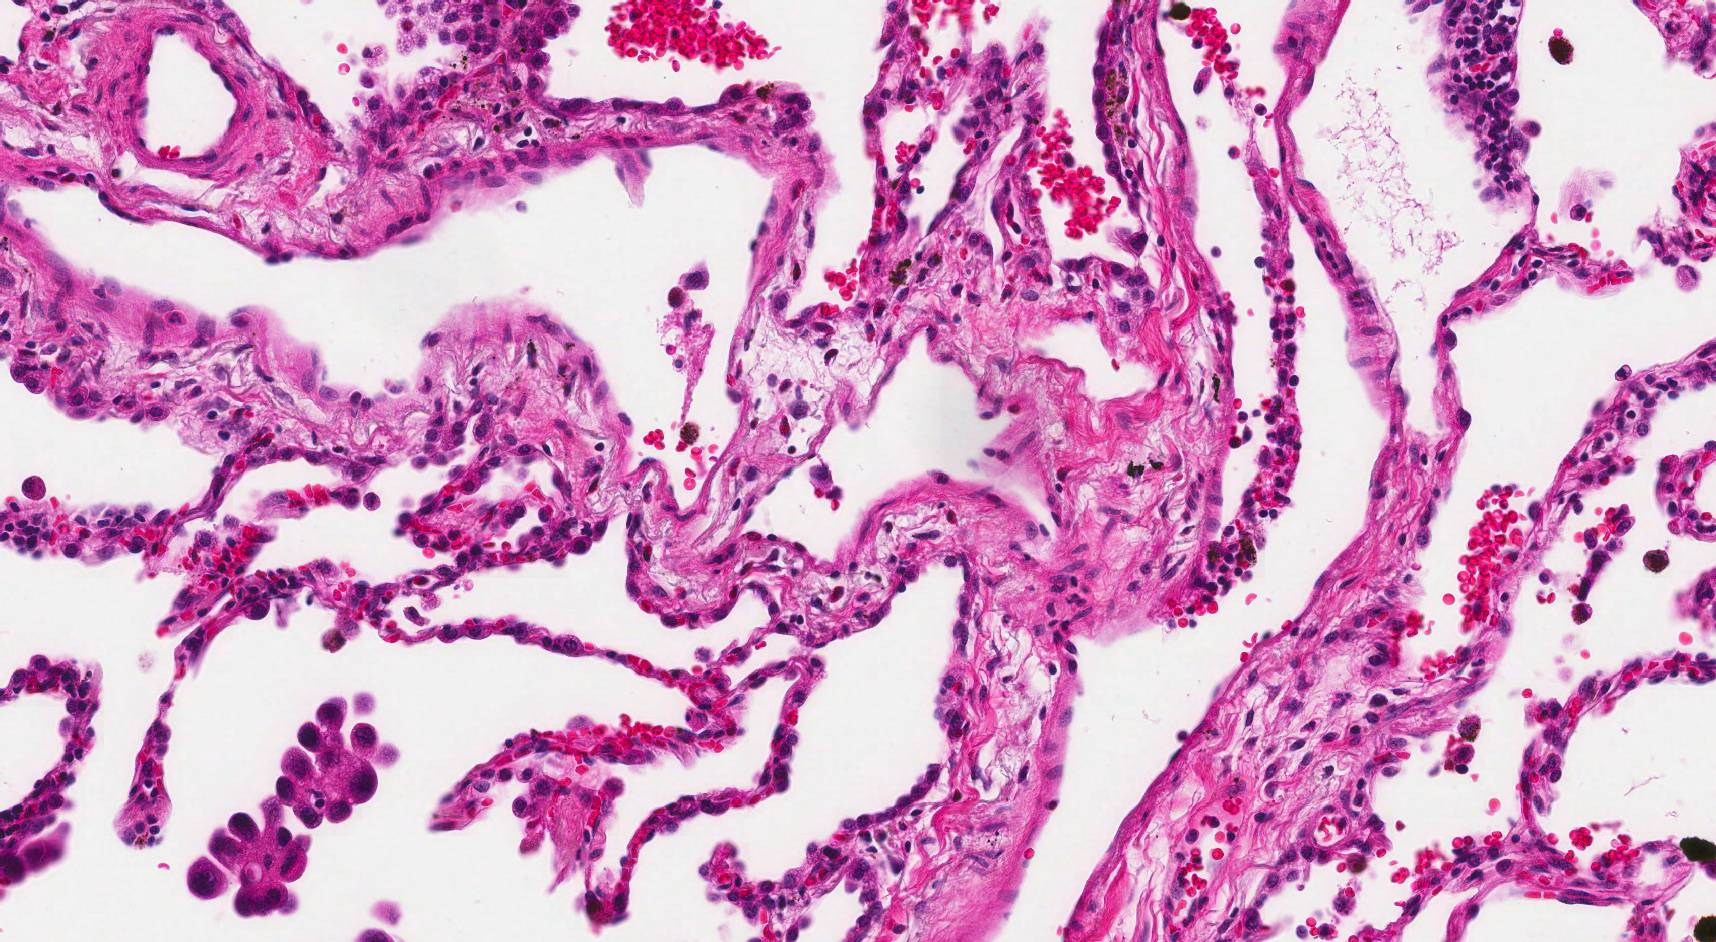stas: (185, 696, 398, 922)
